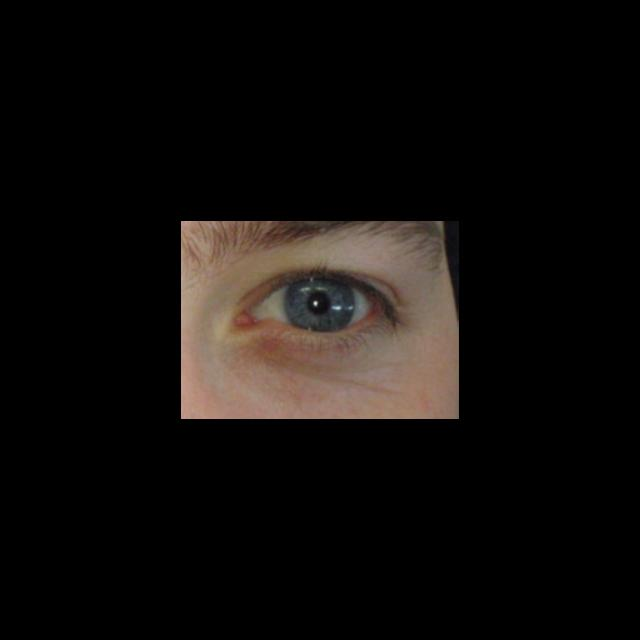eye: (257, 279, 376, 332)
iris: (286, 282, 353, 330)
